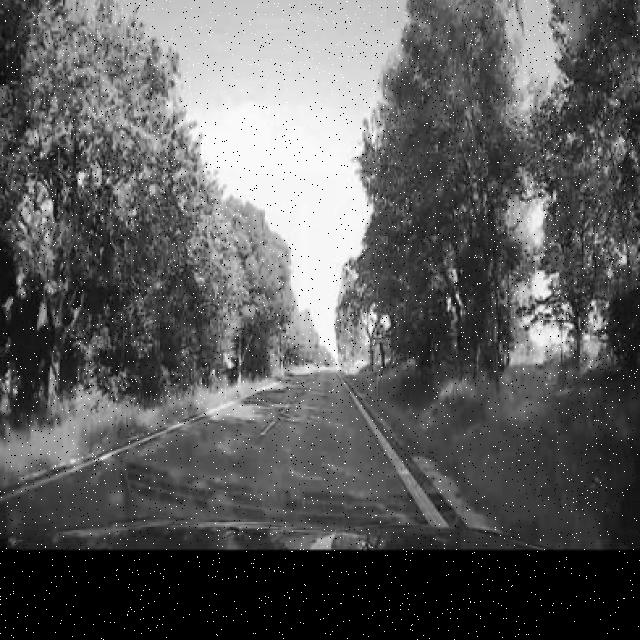clear-road: (148, 368, 388, 484)
